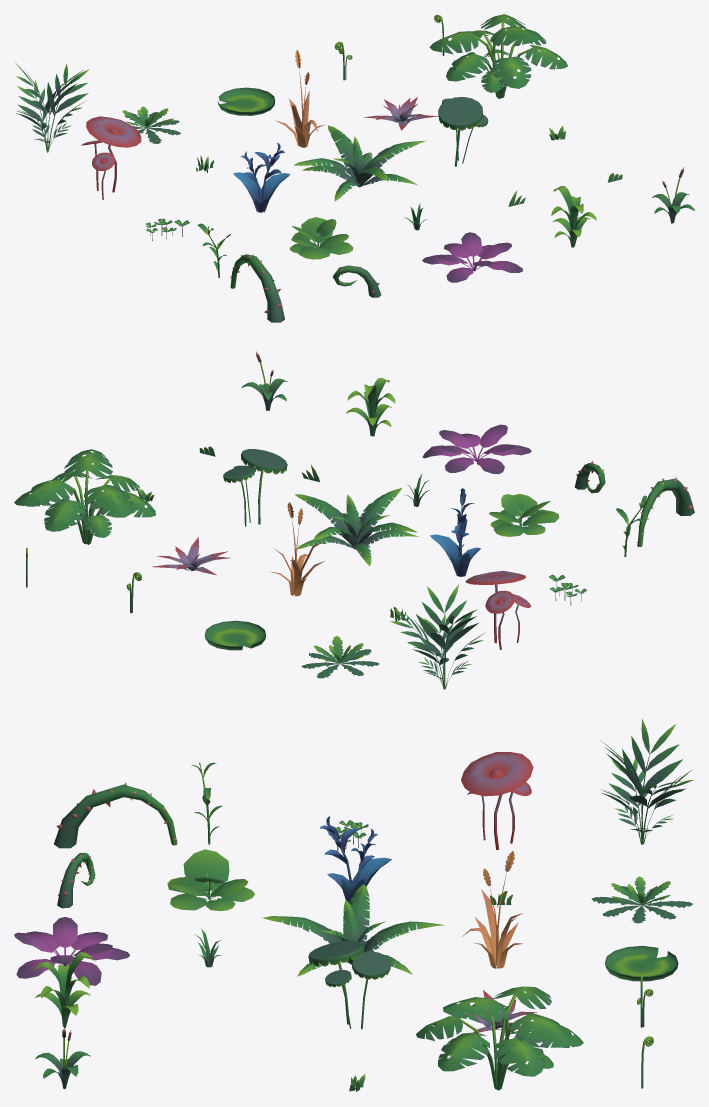
The model's file is Plants_01.fbx.
3 renders of one model, top to bottom at view 1: azimuth 30°, elevation 25°; view 2: azimuth 150°, elevation 25°; view 3: azimuth 270°, elevation 25°, orthographic. The views are drawn at different scales.
Visible parts, largest first — view 1: Plane.027, Plane.018, Plane.029, Plane, Plane.021, Plane.006, Plane.019, Plane.015, Sphere.001, Cylinder, Plane.001, Plane.024 (+4 smaller); view 2: Plane.027, Plane.018, Plane.029, Plane, Plane.006, Plane.019, Plane.021, Sphere.001, Plane.030, Plane.015, Cylinder, Plane.001 (+4 smaller); view 3: Plane.027, Plane.029, Plane, Plane.006, Plane.018, Plane.021, Plane.019, Cylinder, Sphere.001, Plane.030, Plane.015, Plane.024 (+3 smaller).
Boxes of the visible parts, <box> form: Plane.027: <box>429,14,567,98</box>; Plane.018: <box>294,125,426,201</box>; Plane.029: <box>15,62,89,152</box>; Plane: <box>422,232,522,282</box>; Plane.021: <box>81,116,141,199</box>; Plane.006: <box>290,217,353,259</box>; Plane.019: <box>438,97,488,166</box>; Plane.015: <box>233,142,290,212</box>; Sphere.001: <box>217,87,275,115</box>; Cylinder: <box>230,254,284,322</box>; Plane.001: <box>551,186,596,247</box>; Plane.024: <box>275,50,325,147</box>; Plane.027: <box>14,449,155,544</box>; Plane.018: <box>295,488,418,566</box>; Plane.029: <box>390,584,485,689</box>; Plane: <box>422,424,531,474</box>; Plane.006: <box>489,493,559,536</box>; Plane.019: <box>223,449,287,526</box>; Plane.021: <box>465,570,530,649</box>; Sphere.001: <box>204,620,265,650</box>; Plane.030: <box>301,636,379,678</box>; Plane.015: <box>430,488,480,576</box>; Cylinder: <box>637,477,694,546</box>; Plane.001: <box>346,377,395,436</box>; Plane.027: <box>416,986,583,1090</box>; Plane.029: <box>600,719,694,844</box>; Plane: <box>14,917,129,985</box>; Plane.006: <box>167,849,254,911</box>; Plane.018: <box>262,884,444,976</box>; Plane.021: <box>461,752,533,849</box>; Plane.019: <box>308,940,390,1029</box>; Cylinder: <box>54,782,177,848</box>; Sphere.001: <box>605,945,678,981</box>; Plane.030: <box>591,876,692,923</box>; Plane.015: <box>319,816,391,903</box>; Plane.024: <box>462,851,522,968</box>.
Bounding box in the file's own units: 3163 × 569 × 3035.
